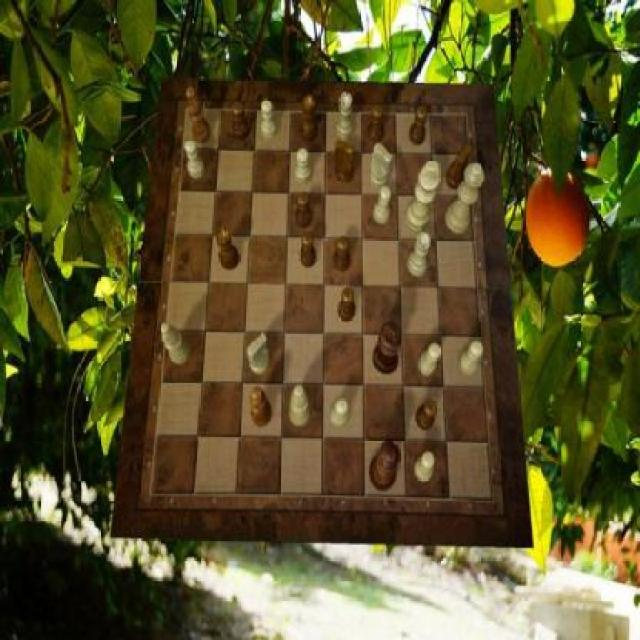bishop: (186, 86, 211, 144), (250, 388, 272, 428)
black-bishop: (374, 320, 403, 375)
black-king: (446, 143, 473, 189), (336, 140, 356, 184)
black-knight: (415, 400, 438, 432), (409, 106, 427, 146), (232, 103, 250, 142), (368, 104, 384, 144), (300, 231, 317, 268), (334, 236, 351, 272), (296, 191, 312, 228), (339, 288, 356, 322)
black-pawn: (369, 440, 402, 492)
black-queen: (215, 226, 240, 270), (300, 96, 318, 144)
black-rook: (162, 321, 192, 364), (289, 385, 312, 427)
white-bishop: (405, 158, 440, 232)
white-king: (371, 143, 394, 189), (248, 332, 270, 375)
white-knight: (418, 343, 442, 377), (458, 342, 482, 376), (186, 140, 206, 180), (374, 186, 391, 224), (262, 100, 278, 140), (416, 451, 436, 482), (296, 149, 312, 184), (331, 399, 348, 426)
white-pawn: (444, 161, 484, 234)
white-queen: (408, 231, 430, 276), (335, 92, 353, 140)
